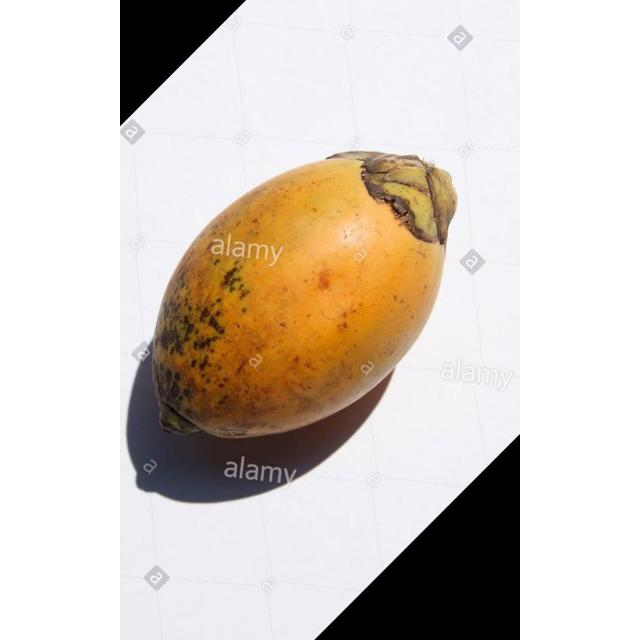good: (151, 151, 457, 442)
